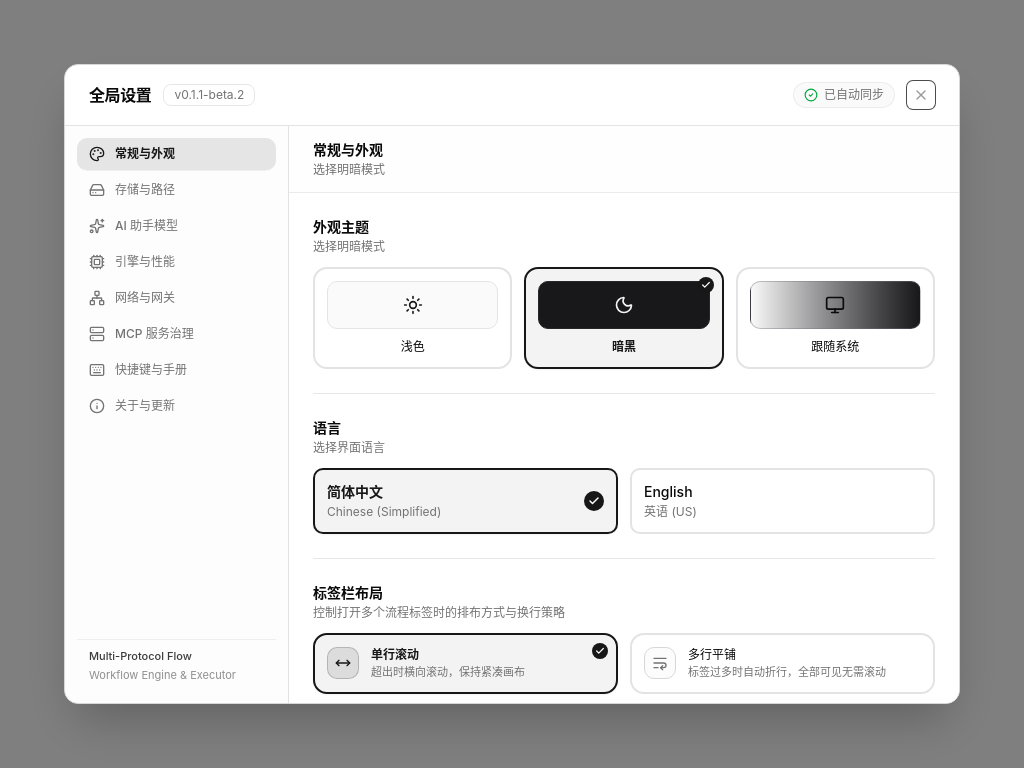
Test: SettingsDialog › 切换到引擎 Tab 时展示超时与并发配置
Click the button "引擎与性能" at (176, 262), box x1=77 y1=246 x2=276 y2=278
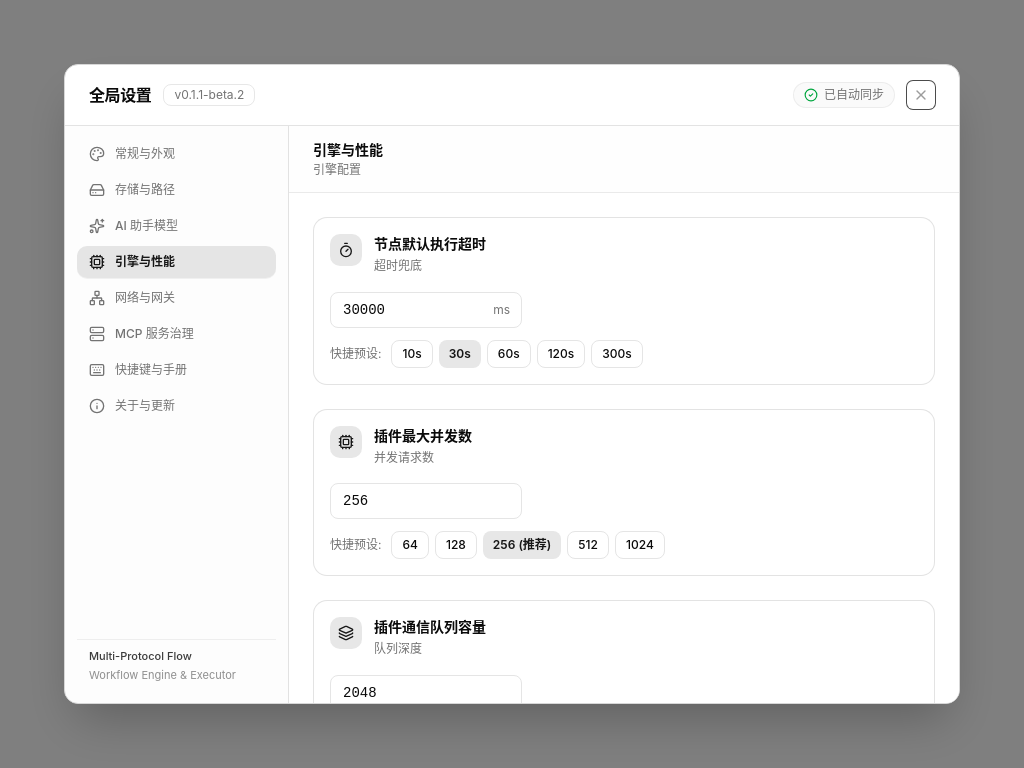
expect the text "节点默认执行超时" is shown: met, box x1=374 y1=235 x2=486 y2=252
expect the text "插件最大并发数" is shown: met, box x1=374 y1=426 x2=472 y2=444
expect the text "插件通信队列容量" is shown: met, box x1=374 y1=618 x2=486 y2=635
